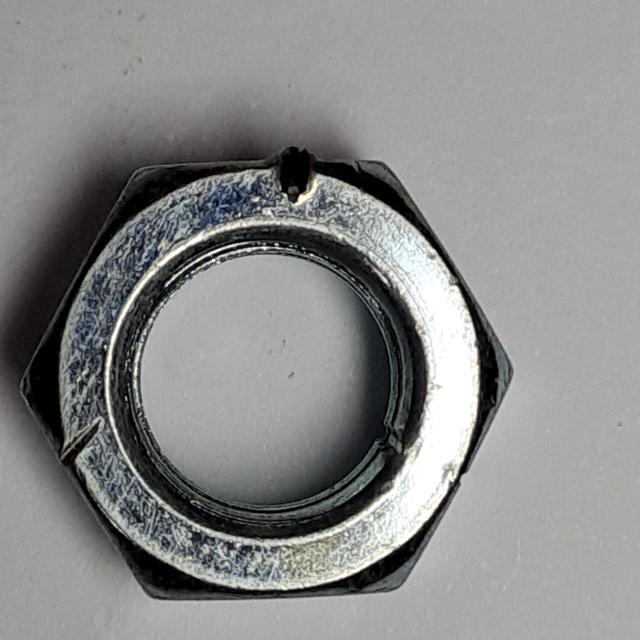Scratches: (8, 126, 531, 615)
